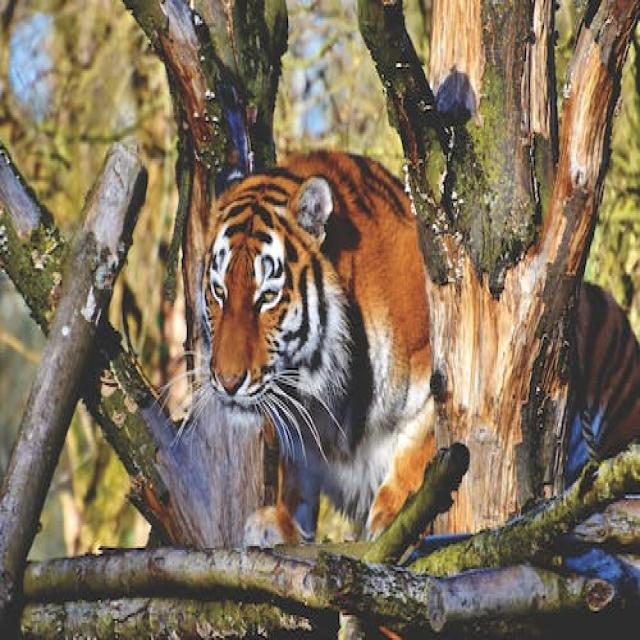not_pig: (177, 146, 638, 548)
